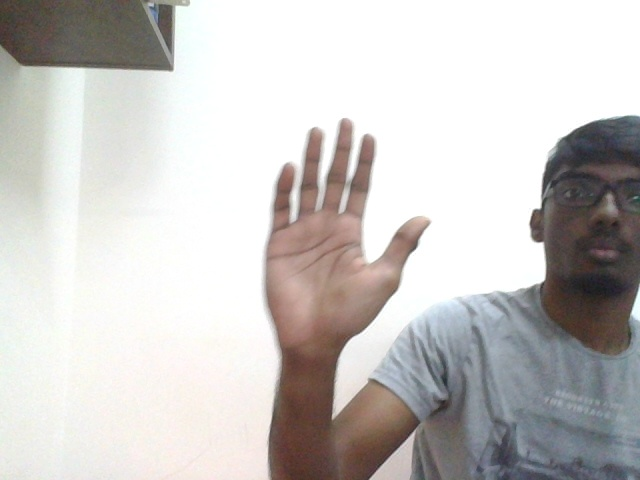Hello: (264, 116, 431, 326)
